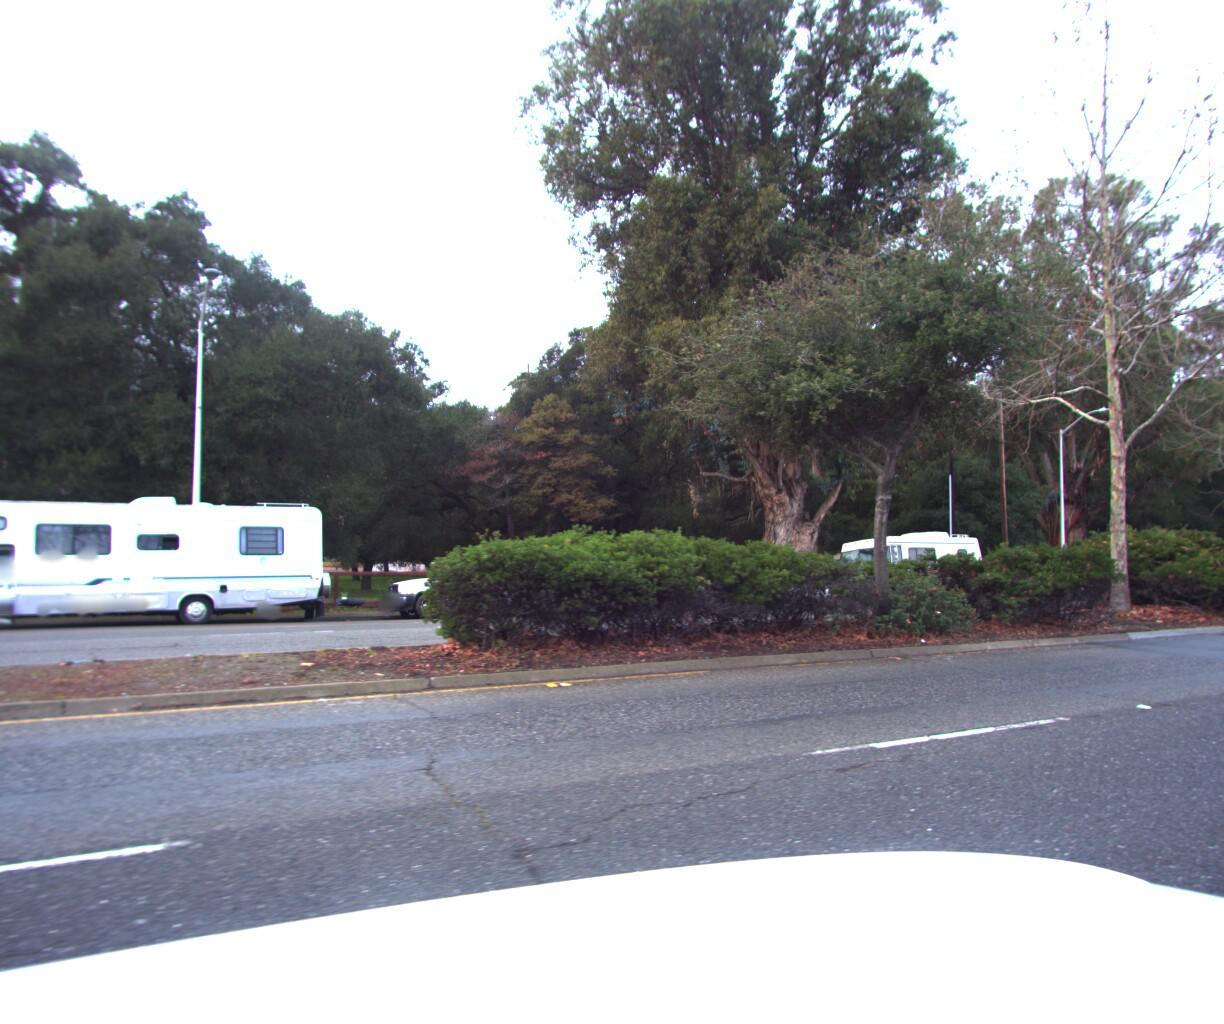car: (374, 556, 564, 621)
other_vehicle: (0, 481, 340, 643), (817, 524, 992, 608)
